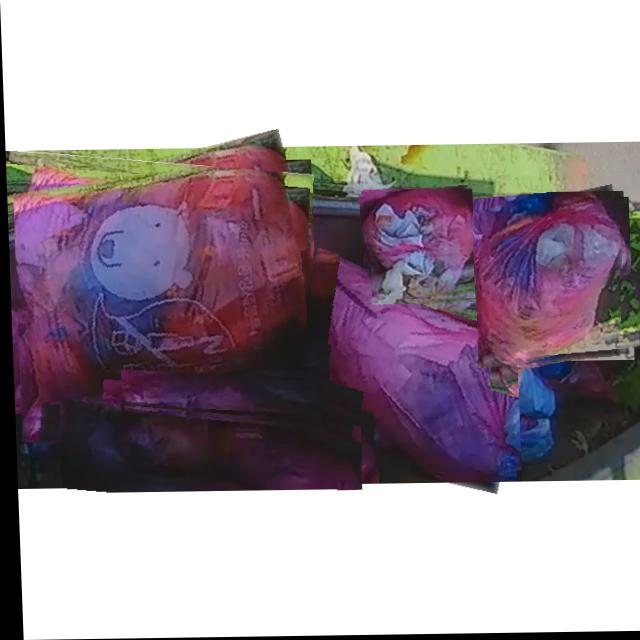other_trashbag: (12, 166, 308, 442), (305, 253, 515, 484), (58, 400, 359, 491), (474, 193, 622, 368), (363, 189, 471, 299), (120, 373, 319, 425)
